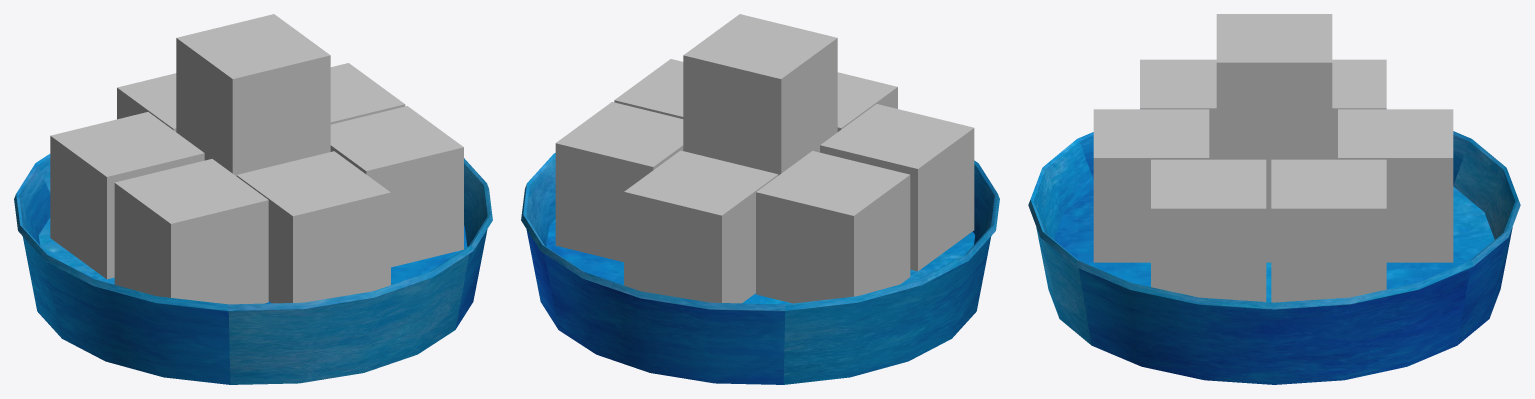
The model's file is ice.fbx.
3 renders of one model, left to right at view 1: azimuth 30°, elevation 25°; view 2: azimuth 150°, elevation 25°; view 3: azimuth 270°, elevation 25°, orthographic. The views are drawn at different scales.
Visible parts, largest first — view 1: pCylinder1, pCube1, pCube7, pCube3, pCube4, pCube6, pCube5, pCube2; view 2: pCylinder1, pCube1, pCube6, pCube2, pCube5, pCube7, pCube4, pCube3; view 3: pCylinder1, pCube1, pCube5, pCube4, pCube2, pCube3, pCube7, pCube6.
Boxes of the visible parts, box(x1,y1,x2,y2) form: pCylinder1: box(14, 154, 492, 384); pCube1: box(176, 14, 330, 176); pCube7: box(114, 159, 268, 304); pCube3: box(236, 151, 390, 303); pCube4: box(330, 106, 463, 267); pCube6: box(50, 112, 204, 279); pCube5: box(330, 63, 405, 124); pCube2: box(117, 73, 176, 131); pCylinder1: box(521, 153, 999, 384); pCube1: box(683, 14, 837, 175); pCube6: box(756, 151, 910, 303); pCube2: box(624, 150, 778, 303); pCube5: box(555, 102, 683, 262); pCube7: box(820, 104, 974, 271); pCube4: box(614, 59, 683, 118); pCube3: box(837, 72, 897, 131); pCylinder1: box(1028, 131, 1520, 384); pCube1: box(1216, 14, 1332, 262); pCube5: box(1271, 159, 1386, 302); pCube4: box(1151, 159, 1266, 301); pCube2: box(1338, 109, 1453, 262); pCube3: box(1093, 109, 1209, 262); pCube7: box(1140, 59, 1216, 159); pCube6: box(1332, 59, 1386, 159).
Size of the model in its own units: 2.1 by 1.18 by 2.1.
